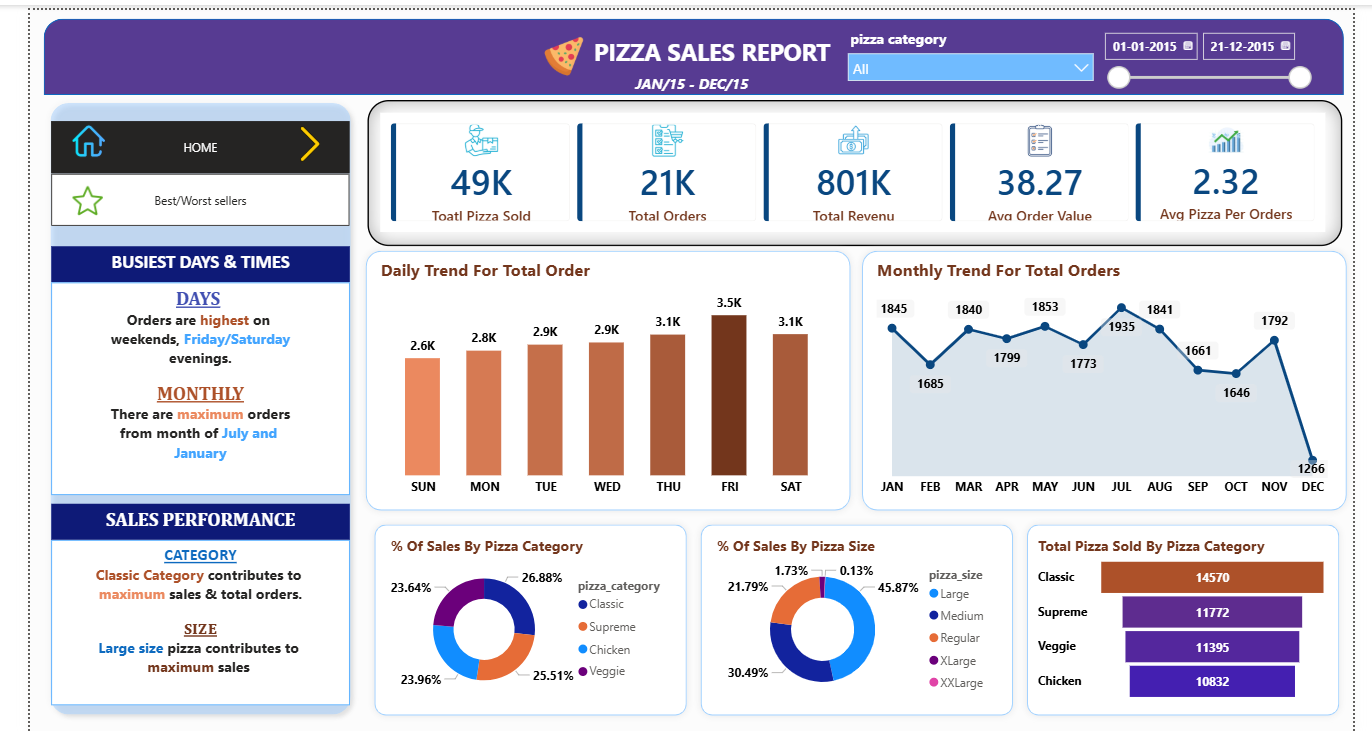

This screenshot's page, from the dashboard's own definition file:
{"tool":"powerbi","page":{"name":"HOME","canvas":[1500,820],"ordinal":0},"visuals":[{"type":"shape","box":[14.2,96.3,358.4,711.2],"z":0},{"type":"cardVisual","fields":{"Data":["pizza_sales.Toatl Pizza Sold","pizza_sales.Total Orders","pizza_sales.Total Revenu","pizza_sales.Avg Order Value","pizza_sales.Avg Pizza Per Orders"]},"box":[382.5,102,1105.1,165.8],"z":1000},{"type":"shape","box":[15.6,9.9,1473.4,86.4],"z":2000},{"type":"textbox","box":[615.4,23.7,316.2,84.5],"z":3000},{"type":"textbox","box":[676.3,65.9,148.8,35.5],"z":4000},{"type":"image","box":[582.3,24.1,45.3,56.7],"z":5000},{"type":"shape","box":[372.6,264.9,565.3,310.3],"z":6000},{"type":"columnChart","title":"Daily Trend For Total Order","fields":{"Category":["pizza_sales.Order day"],"Y":["pizza_sales.Total Orders"]},"box":[392.4,281.9,524.2,277.7],"z":7000},{"type":"shape","box":[935,264.9,565.3,310.3],"z":8000},{"type":"areaChart","title":"Monthly Trend For Total Orders","fields":{"Category":["pizza_sales.Order Month"],"Y":["pizza_sales.Total Orders"]},"box":[954.9,281.9,521.4,277.7],"z":9000},{"type":"shape","box":[382.5,575.2,369.8,232.3],"z":10000},{"type":"shape","box":[752.3,575.2,369.8,232.3],"z":11000},{"type":"shape","box":[1122.1,575.2,369.8,232.3],"z":12000},{"type":"donutChart","title":"% Of Sales By Pizza Category","fields":{"Category":["pizza_sales.pizza_category"],"Y":["pizza_sales.Total Revenu"]},"box":[403.8,595,330.1,192.7],"z":13000},{"type":"donutChart","title":"% Of Sales By Pizza Size","fields":{"Category":["pizza_sales.pizza_size"],"Y":["pizza_sales.Total Revenu"]},"box":[773.5,595,330.1,192.7],"z":14000},{"type":"funnel","title":"Total Pizza Sold By Pizza Category","fields":{"Category":["pizza_sales.pizza_category"],"Y":["pizza_sales.Toatl Pizza Sold"]},"box":[1137.6,595,338.6,192.7],"z":15000},{"type":"textbox","box":[24.1,267.8,338.6,41.1],"z":16000},{"type":"textbox","box":[24.1,308.8,338.6,240.8],"z":16001},{"type":"textbox","box":[24.1,559.6,338.6,41.1],"z":16002},{"type":"textbox","box":[24.1,600.7,338.6,187],"z":16003},{"type":"slicer","fields":{"Values":["pizza_sales.pizza_category"]},"box":[916.6,15.6,298.9,86.4],"z":16004},{"type":"slicer","fields":{"Values":["pizza_sales.order_date"]},"box":[1205.6,15.6,260.7,86.4],"z":16005},{"type":"pageNavigator","box":[24.1,126.1,338.6,59.5],"z":16006},{"type":"pageNavigator","box":[24.1,185.6,338.6,59.5],"z":16007},{"type":"image","box":[48.2,194.1,34,43.9],"z":16008},{"type":"image","box":[48.2,126.1,36.8,45.3],"z":16009},{"type":"image","box":[291.8,131.8,51,39.7],"z":16010}]}

Visuals, with their boxes in screenshot pixels (x1, y1, x2, y2), scaled from the page's 1500x820 canvas onto the 1372x731 screenshot:
shape: bbox(13, 86, 341, 720)
cardVisual - pizza_sales.Toatl Pizza Sold x pizza_sales.Total Orders: bbox(350, 91, 1361, 239)
shape: bbox(14, 9, 1362, 86)
textbox: bbox(563, 21, 852, 96)
textbox: bbox(619, 59, 755, 90)
image: bbox(533, 21, 574, 72)
shape: bbox(341, 236, 858, 513)
"Daily Trend For Total Order" columnChart: bbox(359, 251, 838, 499)
shape: bbox(855, 236, 1371, 513)
"Monthly Trend For Total Orders" areaChart: bbox(873, 251, 1350, 499)
shape: bbox(350, 513, 688, 720)
shape: bbox(688, 513, 1026, 720)
shape: bbox(1026, 513, 1365, 720)
"% Of Sales By Pizza Category" donutChart: bbox(369, 530, 671, 702)
"% Of Sales By Pizza Size" donutChart: bbox(707, 530, 1009, 702)
"Total Pizza Sold By Pizza Category" funnel: bbox(1041, 530, 1350, 702)
textbox: bbox(22, 239, 332, 275)
textbox: bbox(22, 275, 332, 490)
textbox: bbox(22, 499, 332, 536)
textbox: bbox(22, 536, 332, 702)
slicer - pizza_sales.pizza_category: bbox(838, 14, 1112, 91)
slicer - pizza_sales.order_date: bbox(1103, 14, 1341, 91)
pageNavigator: bbox(22, 112, 332, 165)
pageNavigator: bbox(22, 165, 332, 218)
image: bbox(44, 173, 75, 212)
image: bbox(44, 112, 78, 153)
image: bbox(267, 117, 314, 153)
